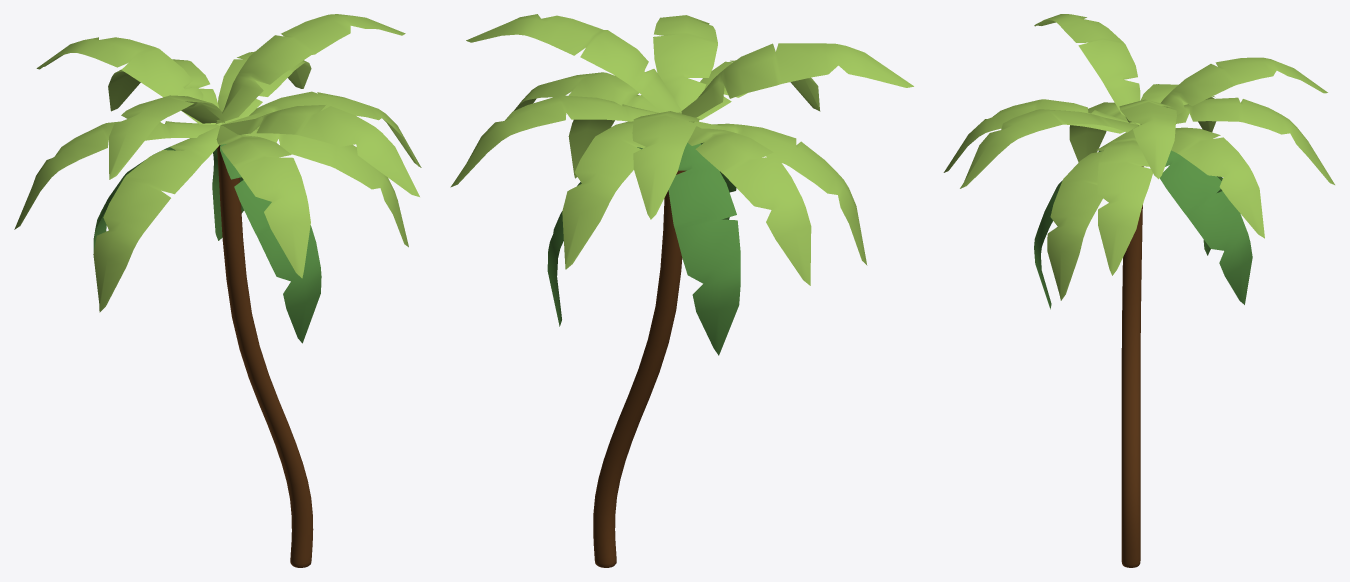
Rendered from Palm_G_01.fbx.
3 views of the same model, side by side, from view 1: azimuth 30°, elevation 25°; view 2: azimuth 150°, elevation 25°; view 3: azimuth 270°, elevation 25° (orthographic). The views are drawn at different scales.
Visible parts, largest first — view 1: Palm_G_01; view 2: Palm_G_01; view 3: Palm_G_01.
Boxes of the visible parts, x1,y1,x2,y2 form: Palm_G_01: [14, 14, 421, 567]; Palm_G_01: [450, 14, 913, 567]; Palm_G_01: [943, 14, 1334, 567].
Size of the model in its own units: 728 by 997 by 755.
